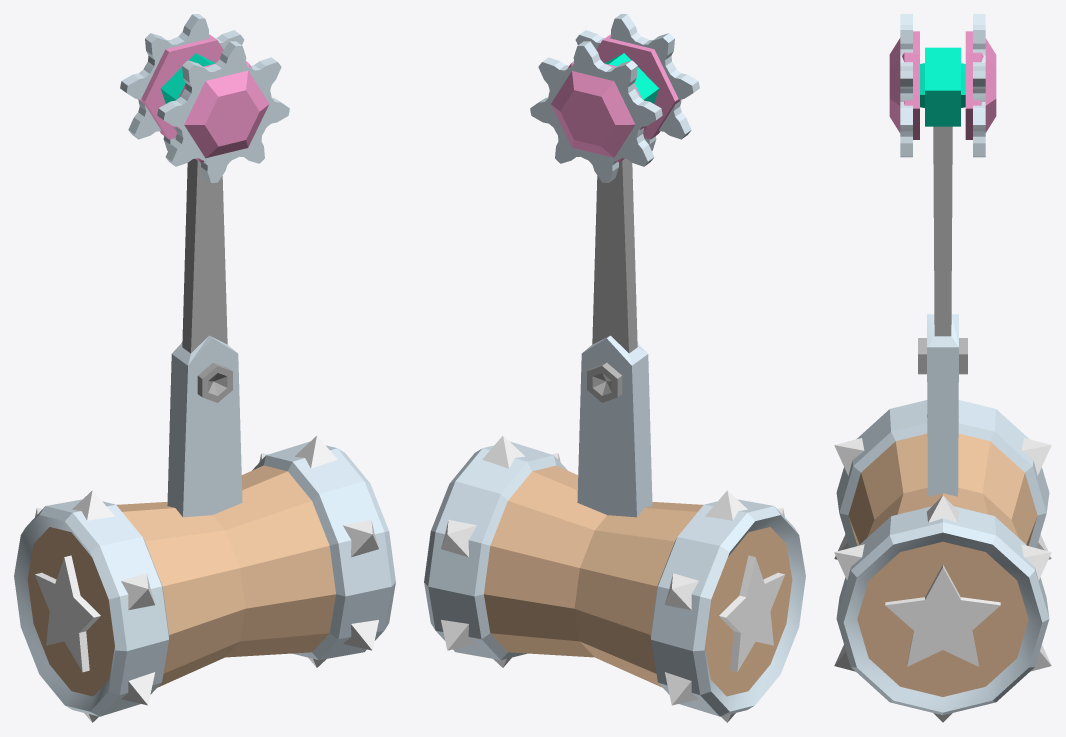
Rendered from Big_Hammer_Pendulum.fbx.
3 views of the same model, side by side, from view 1: azimuth 30°, elevation 25°; view 2: azimuth 150°, elevation 25°; view 3: azimuth 270°, elevation 25° (orthographic). The views are drawn at different scales.
Visible parts, largest first — view 1: Big_Hammer_Pendulum; view 2: Big_Hammer_Pendulum; view 3: Big_Hammer_Pendulum.
Boxes of the visible parts, box(x1,y1,x2,y2) form: Big_Hammer_Pendulum: box(14, 14, 395, 722); Big_Hammer_Pendulum: box(424, 14, 805, 722); Big_Hammer_Pendulum: box(834, 14, 1051, 722).
Bounding box in the file's own units: 200 × 452 × 137.
